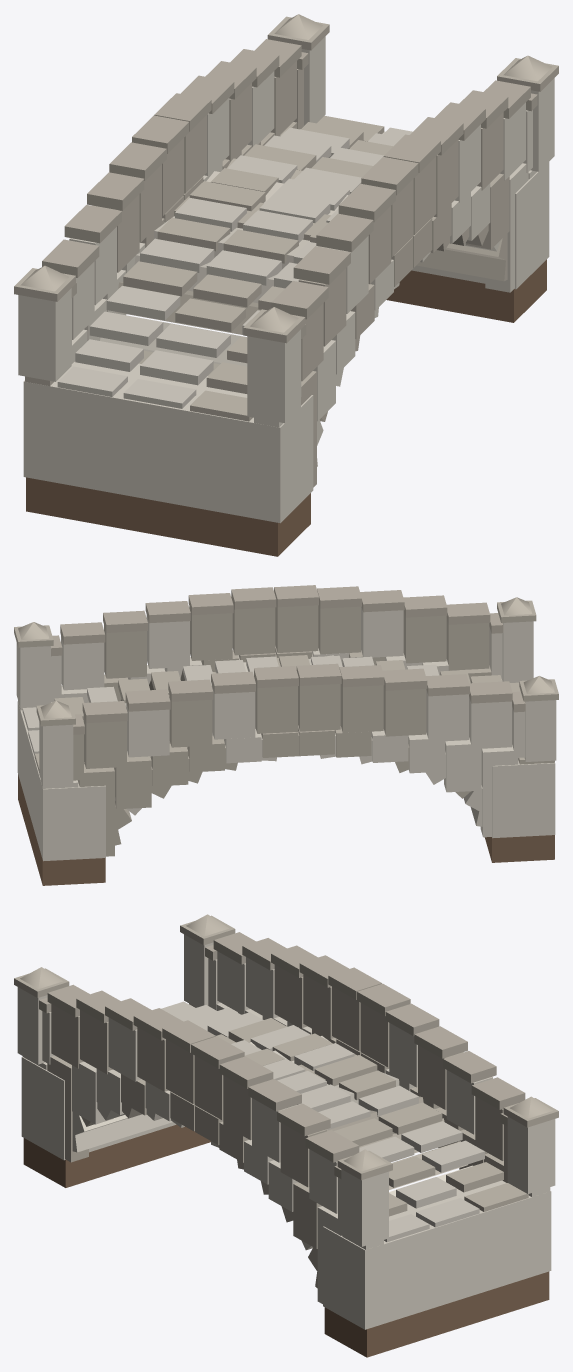
Rendered from south_indian_village_small_stone_bridge.glb.
3 views of the same model, one above another, from view 1: azimuth 30°, elevation 25°; view 2: azimuth 150°, elevation 25°; view 3: azimuth 270°, elevation 25° (orthographic). The views are drawn at different scales.
Parts seen in each view (by area): view 1: Bridge_Safety_Parapet_Railings, Bridge_Granite_Abutments, Bridge_Cambered_Flagstone_Deck, Bridge_Terminal_Corner_Posts, Bridge_Ashlar_Spandrel_Walls, Bridge_Segmental_Arch_Barrel; view 2: Bridge_Safety_Parapet_Railings, Bridge_Ashlar_Spandrel_Walls, Bridge_Granite_Abutments, Bridge_Terminal_Corner_Posts, Bridge_Cambered_Flagstone_Deck, Bridge_Segmental_Arch_Barrel; view 3: Bridge_Safety_Parapet_Railings, Bridge_Granite_Abutments, Bridge_Cambered_Flagstone_Deck, Bridge_Terminal_Corner_Posts, Bridge_Ashlar_Spandrel_Walls, Bridge_Segmental_Arch_Barrel.
Boxes of the visible parts, <box> form: Bridge_Safety_Parapet_Railings: <box>42,39,537,396</box>; Bridge_Granite_Abutments: <box>23,131,549,556</box>; Bridge_Cambered_Flagstone_Deck: <box>57,115,412,421</box>; Bridge_Terminal_Corner_Posts: <box>14,14,558,423</box>; Bridge_Ashlar_Spandrel_Walls: <box>25,122,536,487</box>; Bridge_Segmental_Arch_Barrel: <box>100,158,507,466</box>; Bridge_Safety_Parapet_Railings: <box>51,585,525,780</box>; Bridge_Ashlar_Spandrel_Walls: <box>18,646,554,856</box>; Bridge_Granite_Abutments: <box>17,701,555,885</box>; Bridge_Terminal_Corner_Posts: <box>14,597,558,786</box>; Bridge_Cambered_Flagstone_Deck: <box>22,655,520,772</box>; Bridge_Segmental_Arch_Barrel: <box>115,652,482,845</box>; Bridge_Safety_Parapet_Railings: <box>39,932,525,1228</box>; Bridge_Granite_Abutments: <box>21,1004,551,1357</box>; Bridge_Cambered_Flagstone_Deck: <box>161,1001,528,1242</box>; Bridge_Terminal_Corner_Posts: <box>14,914,558,1246</box>; Bridge_Ashlar_Spandrel_Walls: <box>22,1003,550,1303</box>; Bridge_Segmental_Arch_Barrel: <box>72,1027,472,1288</box>.
Size of the model in its own units: 6.82 by 2.69 by 6.09.
